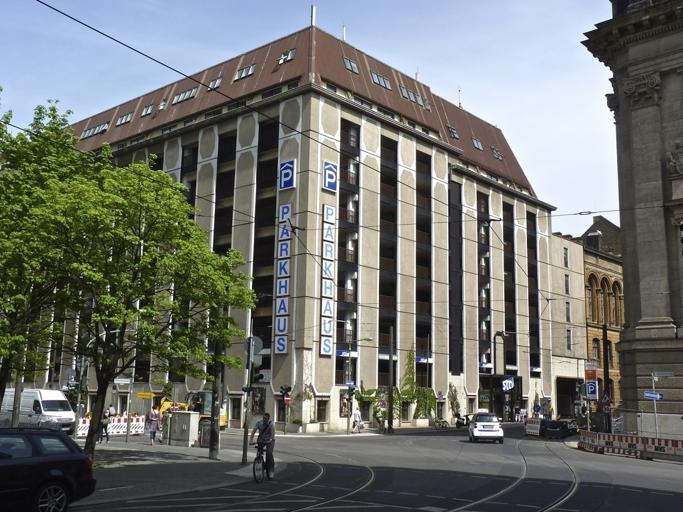non-vehicle: (251, 441, 274, 483), (434, 417, 449, 431)
